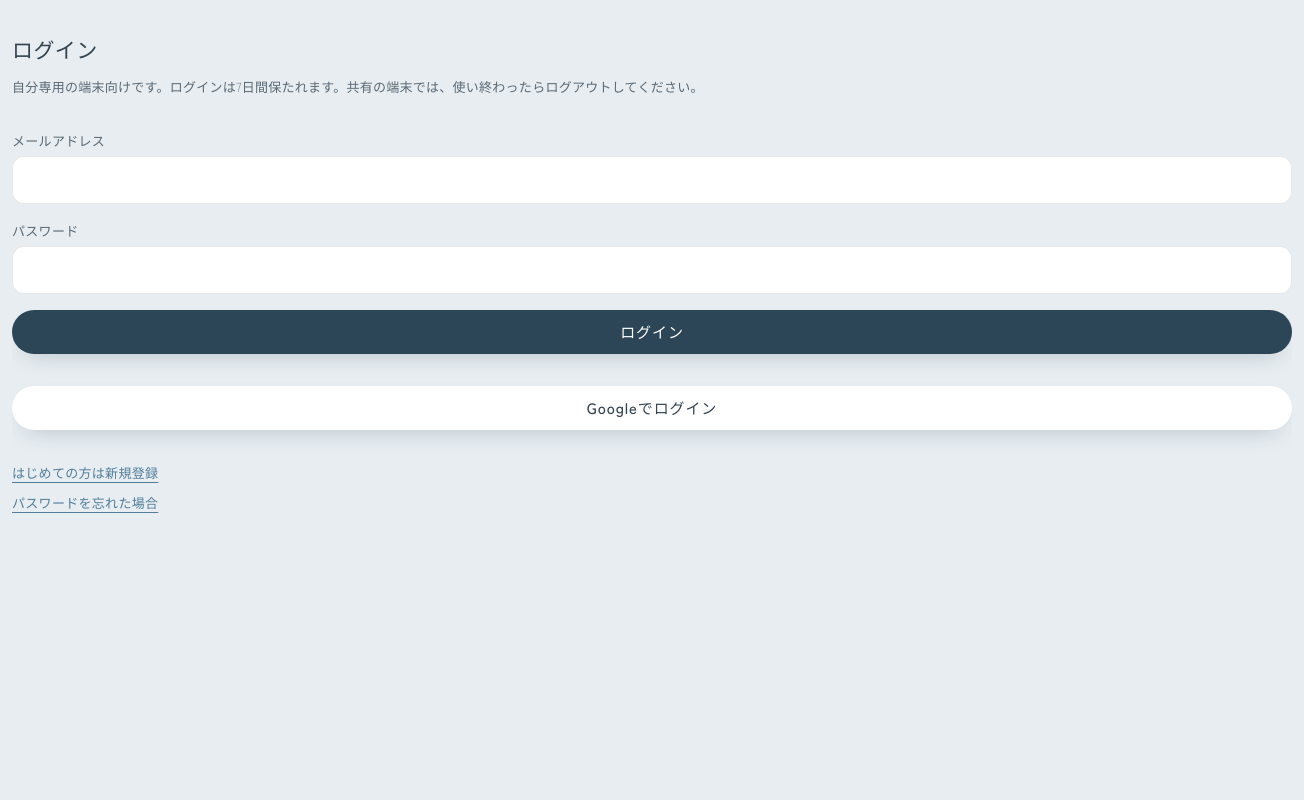
Test: SignInScreen › メール未確認なら確認メールの再送へ案内する
Expected: the button "ログイン" is enabled, top-left (12, 310), bottom-right (1292, 354)
Type "user@example.com" into the field labelled "メールアドレス".
click(652, 180); type("user@example.com")  # box top-left (12, 156), bottom-right (1292, 204)
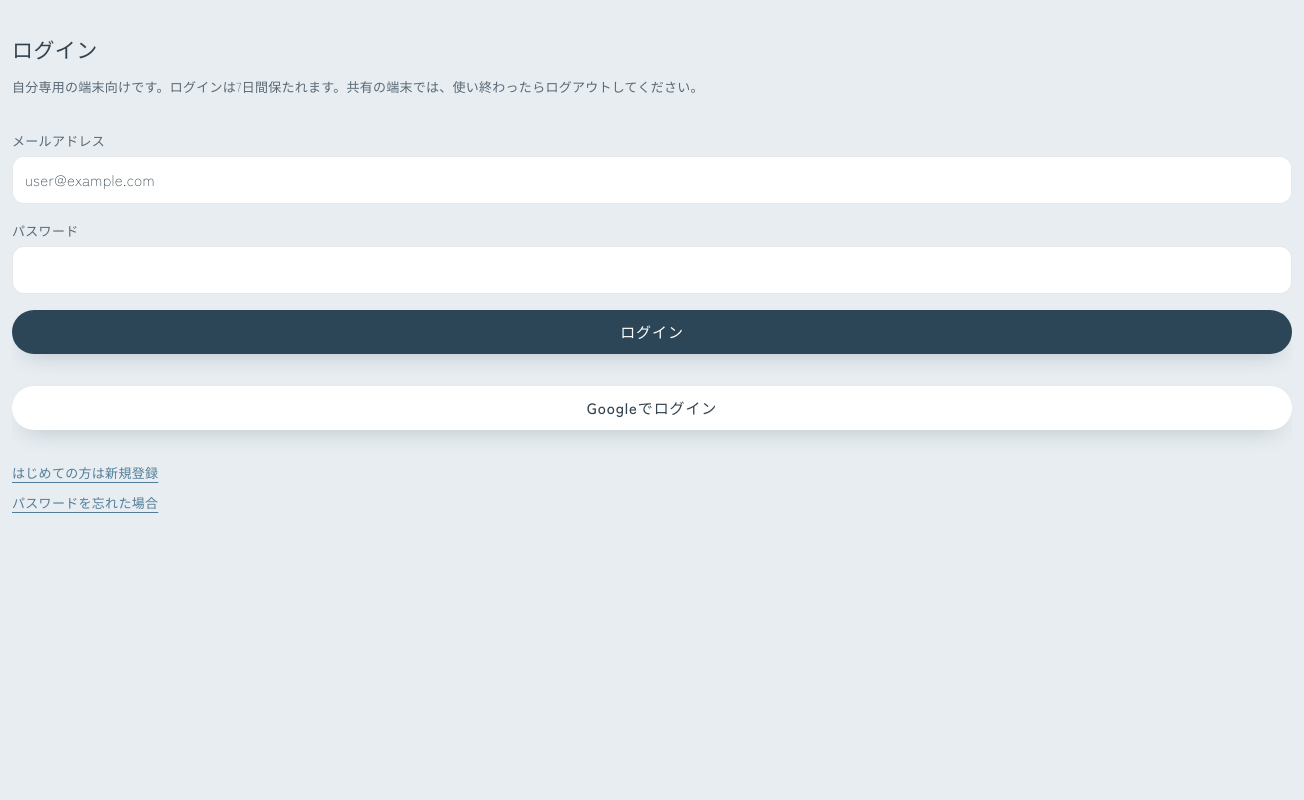
Type "password123" into the password field labelled "パスワード".
click(652, 270); type("password123")  # box top-left (12, 246), bottom-right (1292, 294)
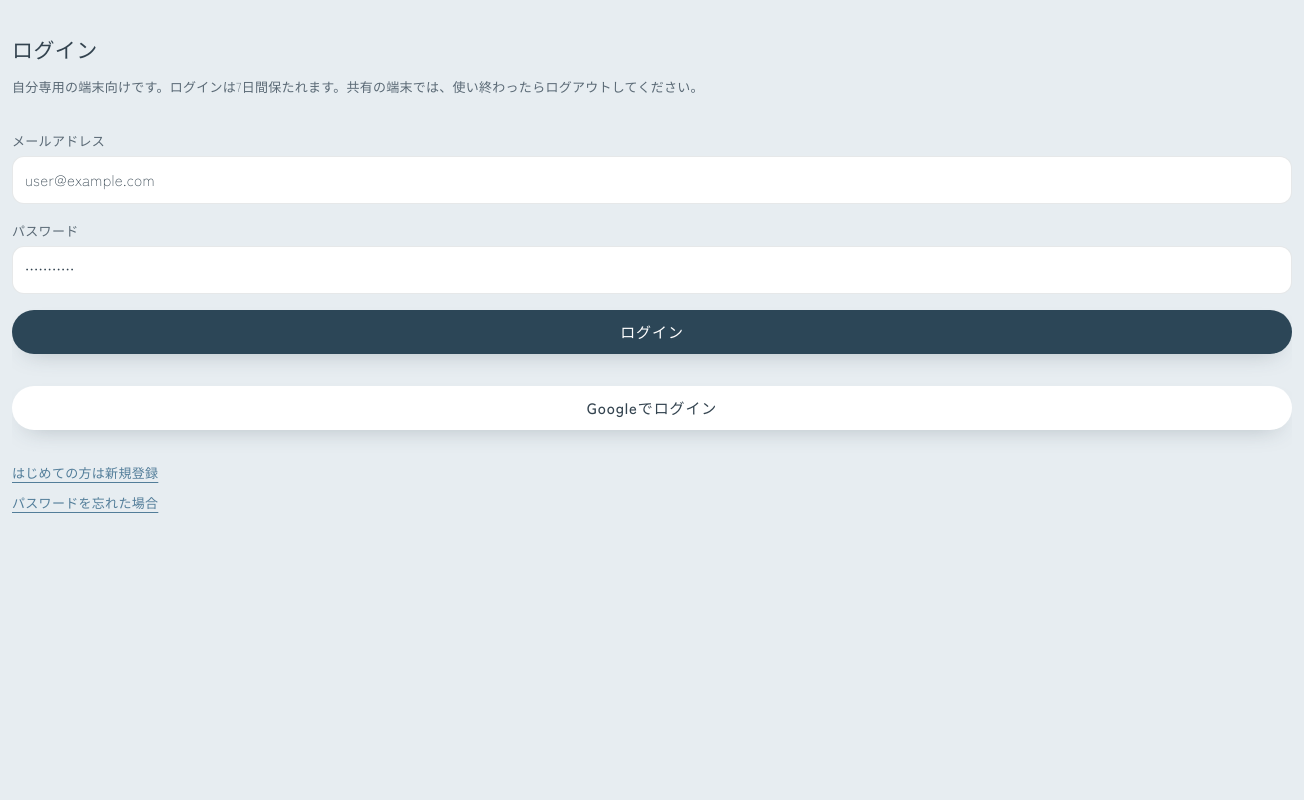
Click the button "ログイン".
click(652, 332)  # box top-left (12, 310), bottom-right (1292, 354)
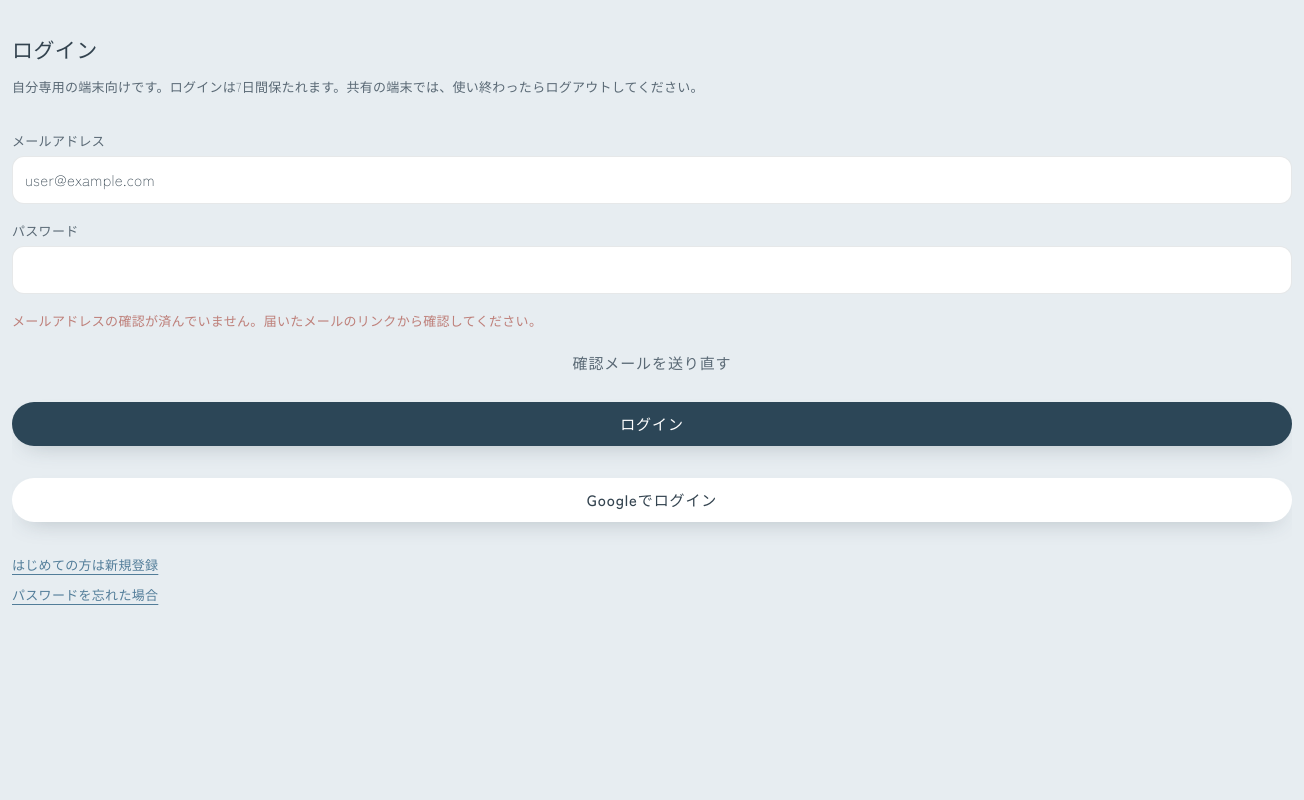
Click the button "確認メールを送り直す".
click(652, 363)  # box top-left (12, 340), bottom-right (1292, 386)
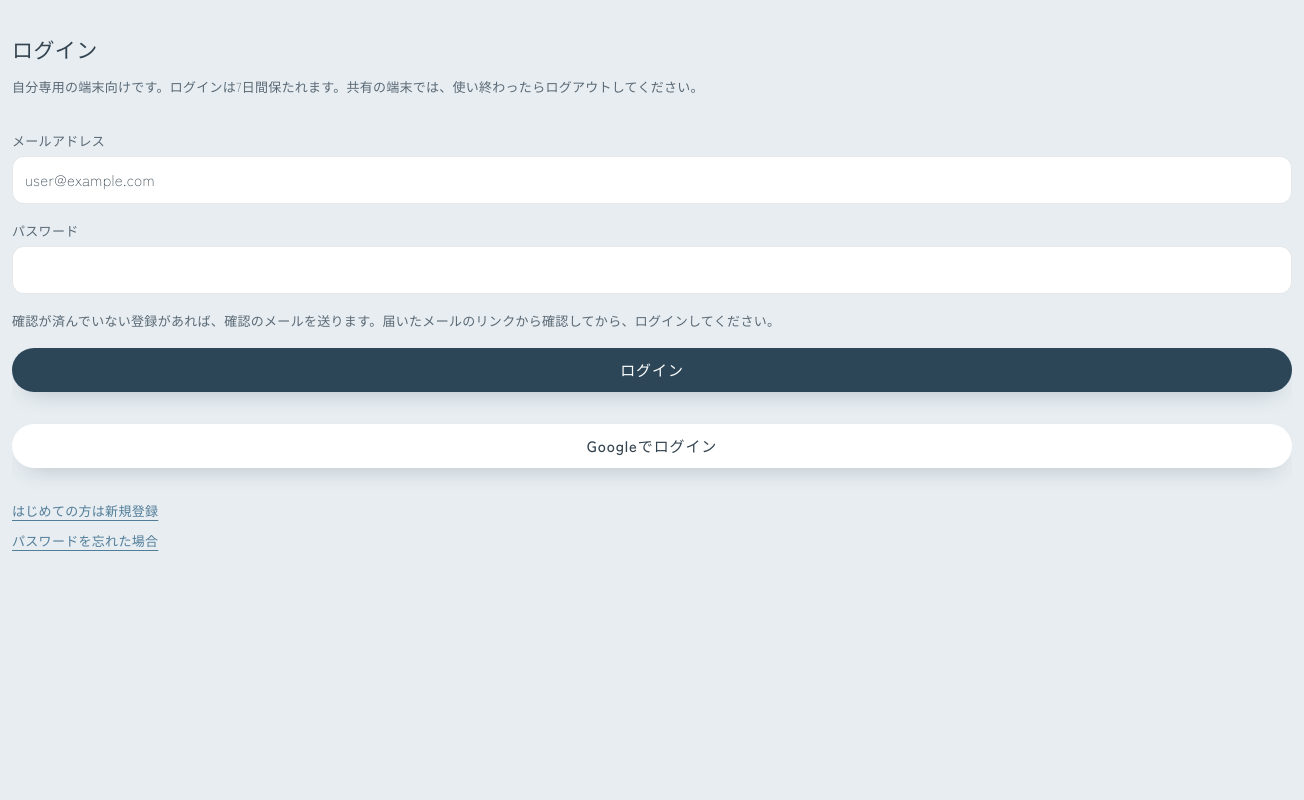
Expected: the text "確認が済んでいない登録があれば、確認のメールを送ります。届いたメールのリンクから確認してから、ログインしてください。" is shown, top-left (12, 311), bottom-right (780, 330)
